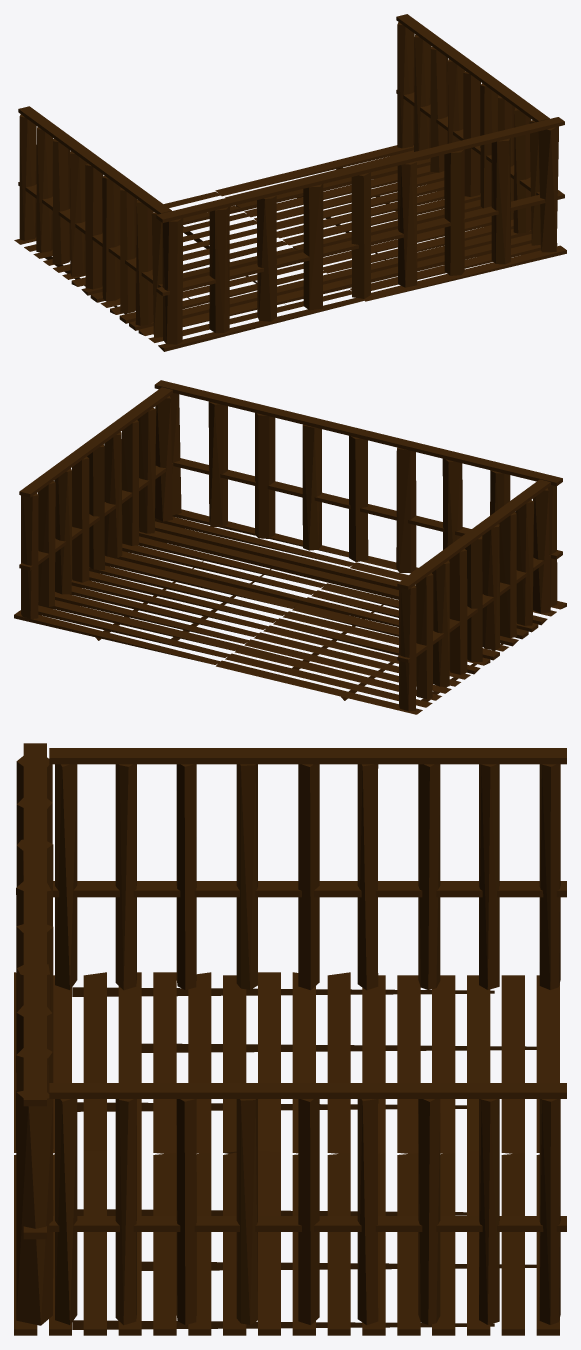
File: Scenic Overlook.glb
3 renders of one model, top to bottom at view 1: azimuth 30°, elevation 25°; view 2: azimuth 150°, elevation 25°; view 3: azimuth 270°, elevation 25°, orthographic. The views are drawn at different scales.
Visible parts, largest first — view 1: Railing.001, Floor, Railing.002, Railing; view 2: Floor, Railing.001, Railing, Railing.002; view 3: Floor, Railing.002, Railing, Railing.001.
Part boxes in pixels (x1,y1,x2,y2): Railing.001: (156, 117, 564, 344); Floor: (14, 145, 566, 351); Railing.002: (18, 106, 171, 337); Railing: (396, 14, 549, 245); Floor: (14, 509, 566, 714); Railing.001: (154, 380, 562, 607); Railing: (19, 387, 172, 618); Railing.002: (397, 479, 550, 711); Floor: (14, 972, 559, 1335); Railing.002: (49, 748, 566, 990); Railing: (49, 1083, 566, 1325); Railing.001: (16, 743, 53, 1325).
Size of what is drawn, in the model's own units: 3.66 by 1.16 by 2.39.
